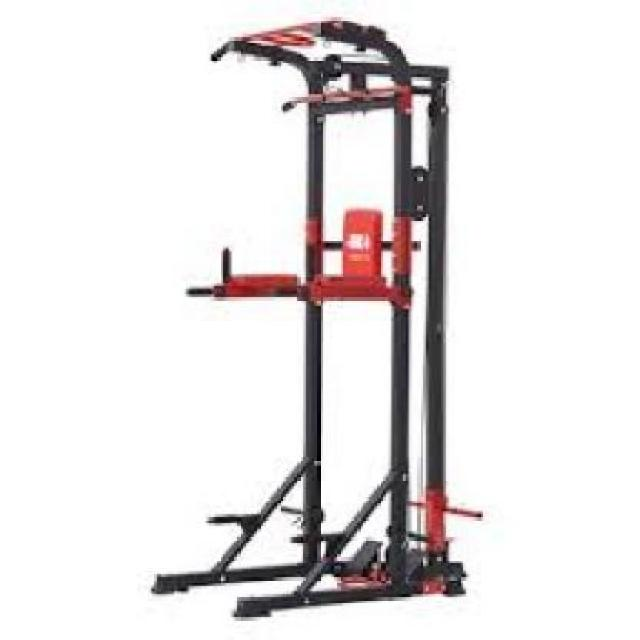chinning dipping: (152, 17, 485, 620)
